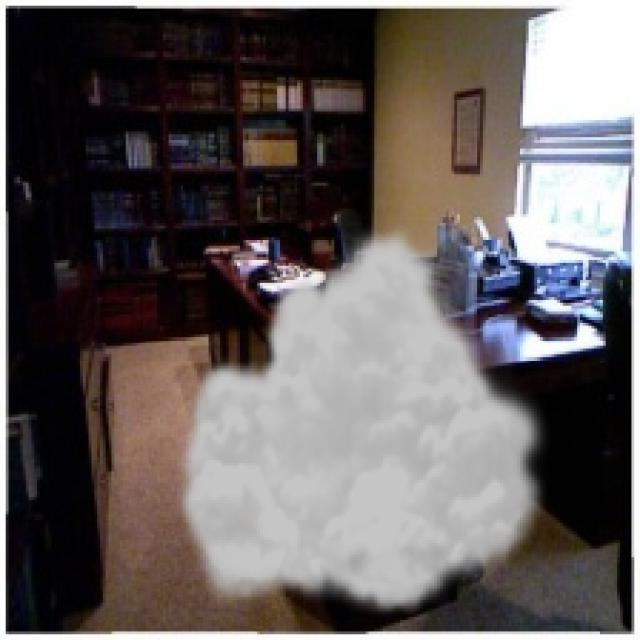smoke: (172, 220, 554, 617)
